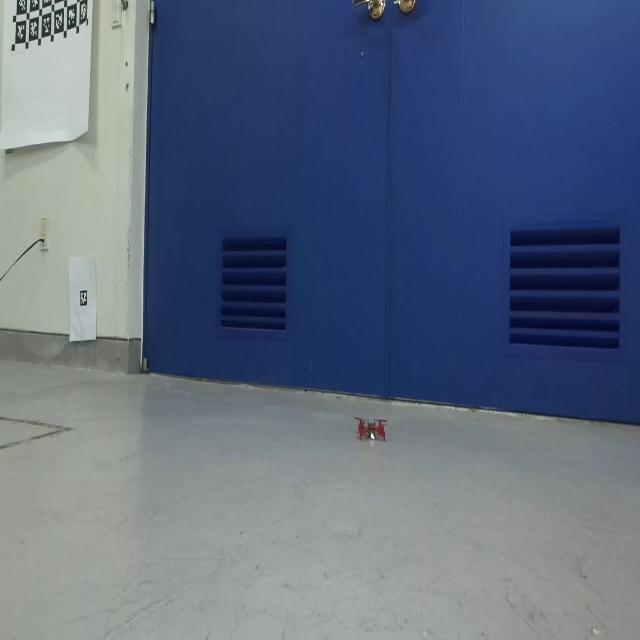crazyflie: (352, 414, 389, 446)
